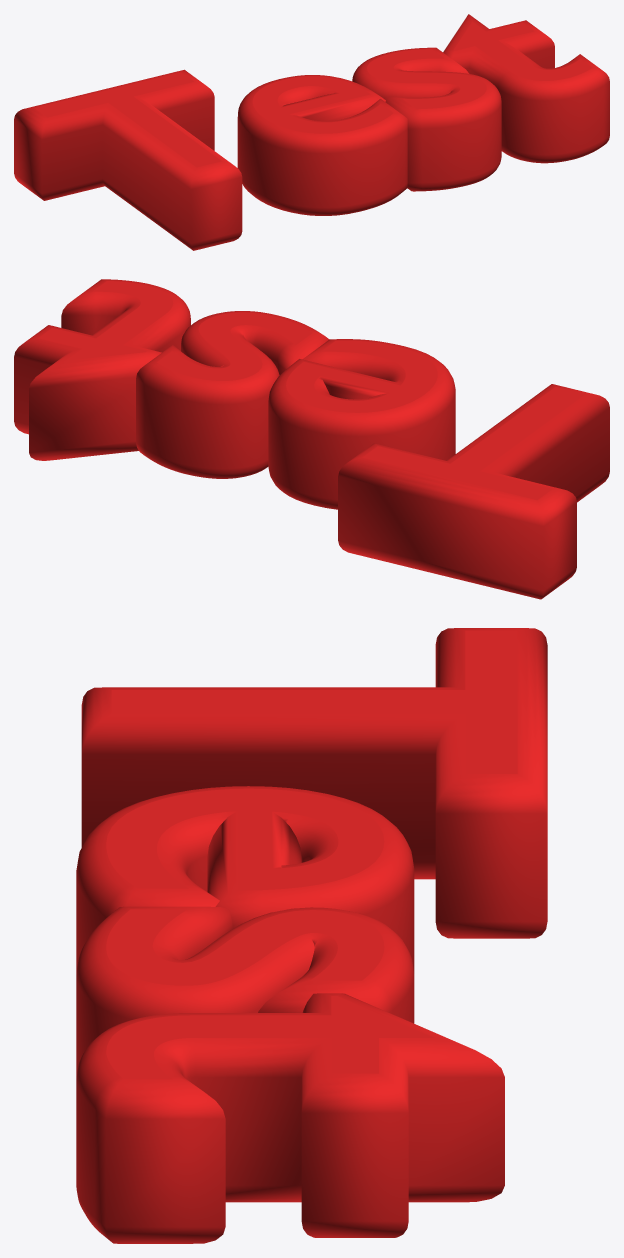
The picture shows the model from 3 angles, top to bottom: view 1: azimuth 30°, elevation 25°; view 2: azimuth 150°, elevation 25°; view 3: azimuth 270°, elevation 25°; orthographic projection. The views are drawn at different scales.
Parts seen in each view (by area): view 1: Text; view 2: Text; view 3: Text.
Boxes of the visible parts, x1=… form: Text: x1=14, y1=14, x2=609, y2=250; Text: x1=14, y1=279, x2=609, y2=599; Text: x1=76, y1=628, x2=547, y2=1243.
Bounding box in the file's own units: 1.88 × 0.3 × 0.791.
